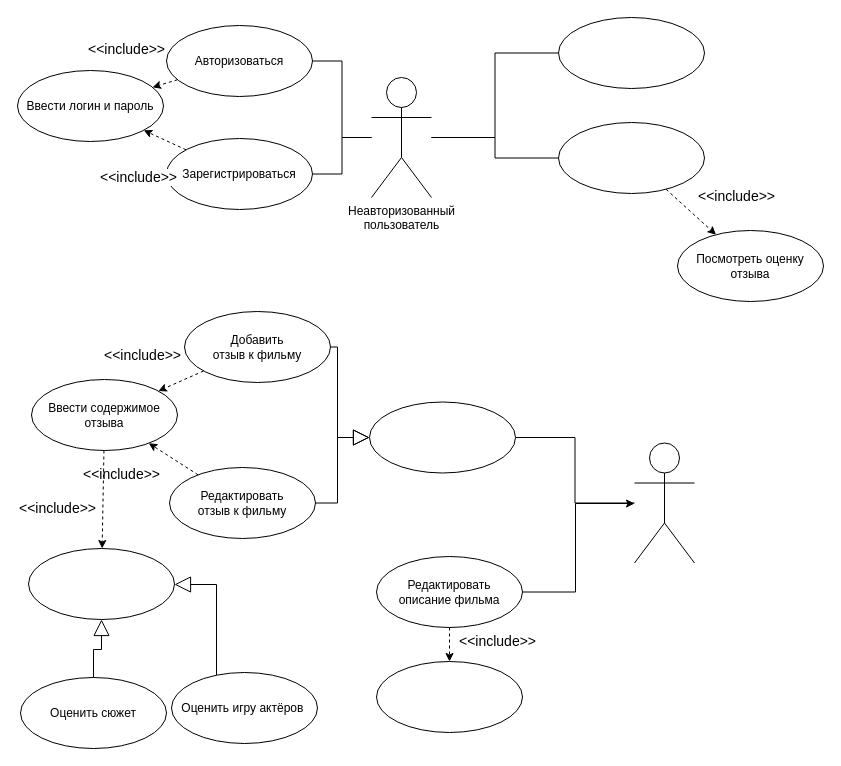
The diagram is 841 pixels wide and 766 high, and some of its shapes have lost their labels. Each missing label, with the box of its shape:
Авторизованный пользователь: (634, 442, 694, 563)
Ввести описание фильма: (376, 660, 522, 732)
Оставить отзыв о фильме: (368, 401, 516, 473)
Оценить по 10 бальной шкале: (28, 548, 174, 620)
Посмотреть подробную информацую о фильме: (558, 122, 704, 194)
Посмотреть список фильмов: (558, 16, 704, 88)
